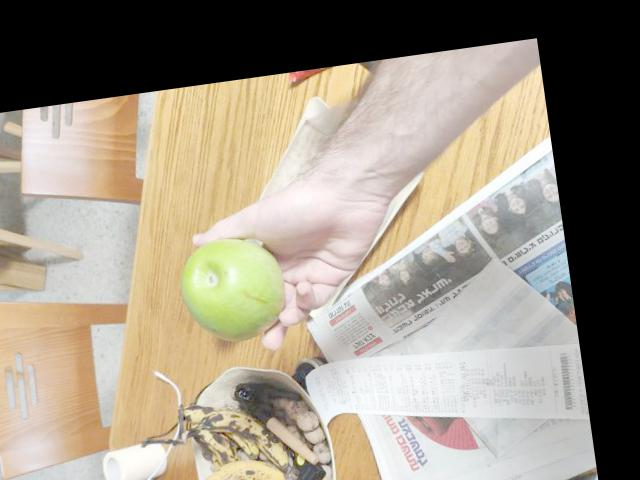apple: (172, 227, 287, 345)
